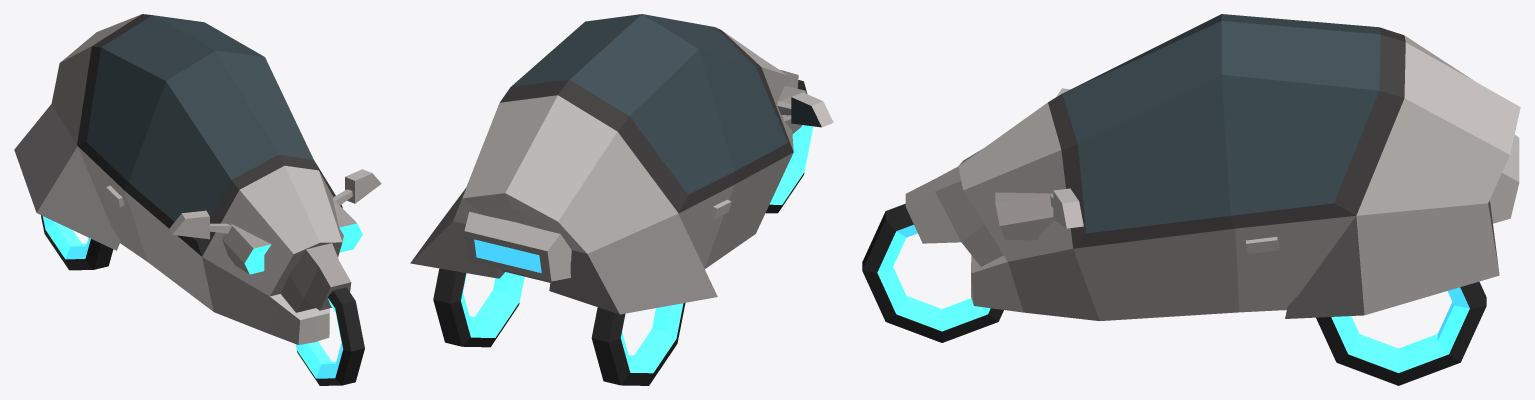
Rendered from scifi_scifi-tribike.fbx.
3 renders of one model, left to right at view 1: azimuth 30°, elevation 25°; view 2: azimuth 150°, elevation 25°; view 3: azimuth 270°, elevation 25°, orthographic. The views are drawn at different scales.
Visible parts, largest first — view 1: scifi_tribike_base, scifi_tribike_wheel_F, scifi_tribike_wheel_B; view 2: scifi_tribike_base, scifi_tribike_wheel_B, scifi_tribike_wheel_F; view 3: scifi_tribike_base, scifi_tribike_wheel_B, scifi_tribike_wheel_F.
Part boxes in pixels (x1,y1,x2,y2): scifi_tribike_base: (14, 14, 381, 344); scifi_tribike_wheel_F: (295, 287, 364, 385); scifi_tribike_wheel_B: (41, 215, 113, 270); scifi_tribike_base: (410, 14, 833, 314); scifi_tribike_wheel_B: (433, 268, 685, 385); scifi_tribike_wheel_F: (765, 80, 813, 213); scifi_tribike_base: (905, 14, 1520, 320); scifi_tribike_wheel_B: (1316, 281, 1486, 385); scifi_tribike_wheel_F: (862, 203, 1003, 342).
Size of the model in its own units: 108 by 107 by 200.
